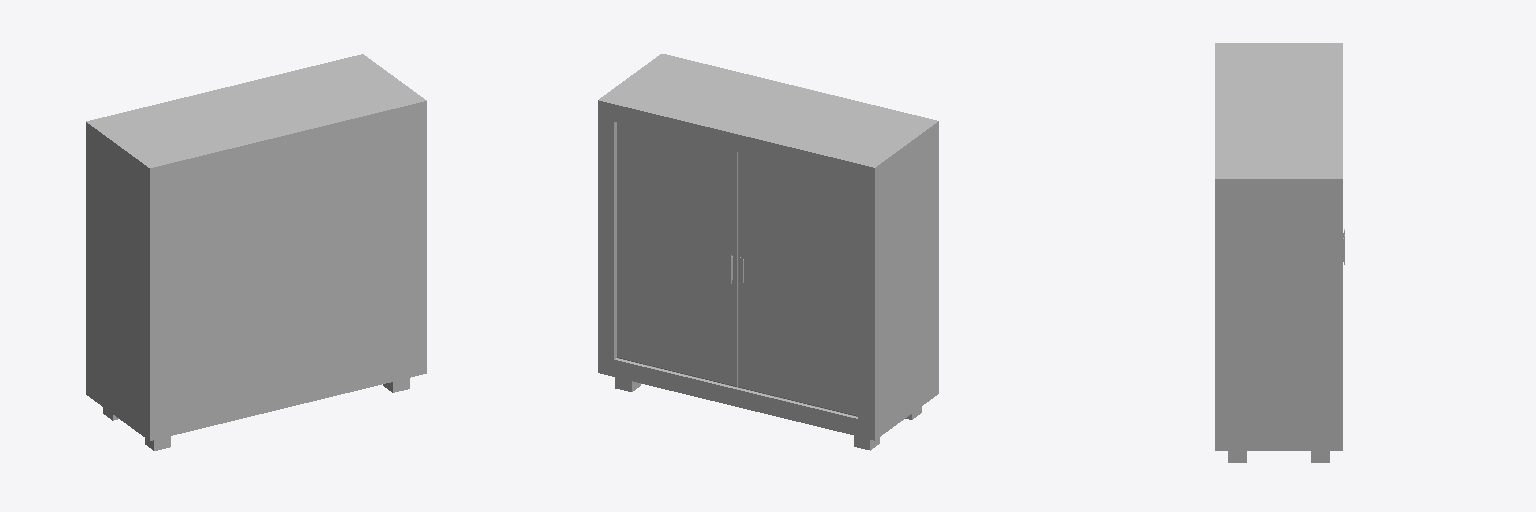
Rendered from cabinet_large.obj.
The picture shows the model from 3 angles: view 1: azimuth 30°, elevation 25°; view 2: azimuth 150°, elevation 25°; view 3: azimuth 270°, elevation 25°; orthographic projection.
Visible parts, largest first — view 1: Cube, Cube.001; view 2: Cube.002, Cube, Cube.001; view 3: Cube.
Part boxes in pixels (bbox=[...]): Cube: bbox=[86, 54, 426, 440]; Cube.001: bbox=[103, 378, 409, 450]; Cube.002: bbox=[617, 122, 857, 416]; Cube: bbox=[598, 54, 938, 440]; Cube.001: bbox=[615, 377, 921, 450]; Cube: bbox=[1215, 43, 1342, 450].
Size of the model in its own units: 1 by 1 by 0.405.